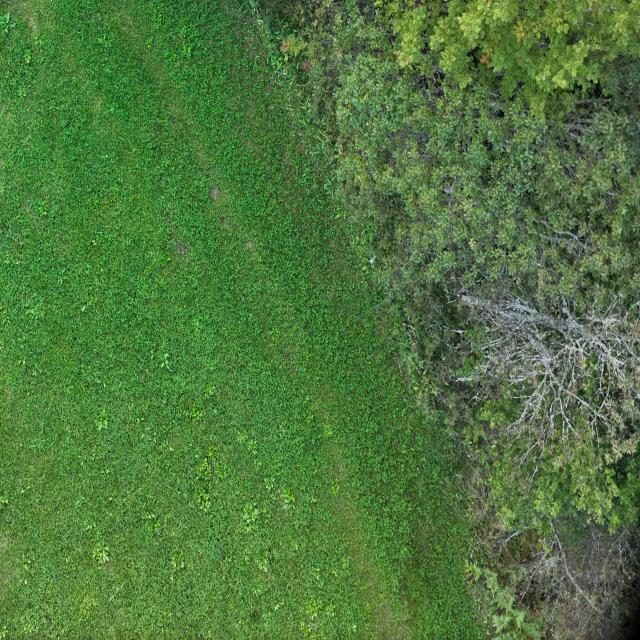rumex: (314, 340, 421, 503), (52, 8, 153, 123), (1, 5, 66, 97), (150, 2, 219, 72), (296, 114, 336, 184), (194, 443, 230, 511), (342, 204, 380, 263), (262, 472, 298, 516), (303, 592, 338, 636), (84, 219, 112, 253), (165, 36, 190, 64), (195, 452, 217, 481), (242, 502, 260, 530), (184, 402, 205, 423), (267, 52, 287, 74), (0, 10, 16, 37), (92, 540, 110, 564), (212, 454, 229, 479), (196, 490, 212, 511), (170, 548, 184, 572), (95, 411, 109, 432), (263, 475, 277, 494), (158, 352, 170, 370), (236, 428, 248, 445), (330, 209, 344, 221), (330, 480, 340, 495), (268, 52, 278, 63), (256, 19, 266, 30), (0, 495, 9, 507), (24, 52, 32, 64), (2, 13, 10, 24), (353, 235, 361, 246), (267, 33, 275, 42), (163, 352, 169, 362), (80, 304, 87, 312), (92, 239, 96, 246)
